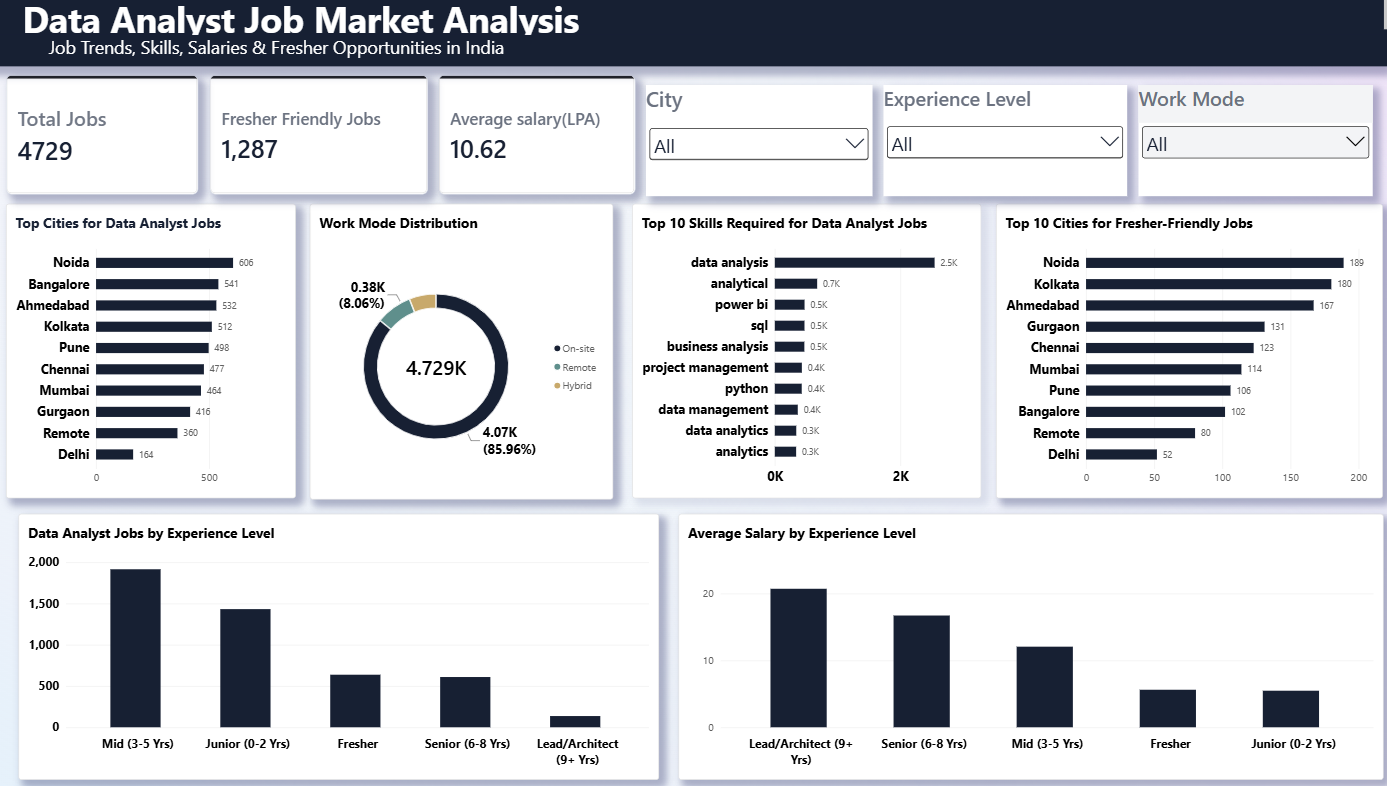

What the dashboard file says about the page in this screenshot:
{"tool":"powerbi","page":{"name":"Page 1","canvas":[1920,1080],"ordinal":0},"visuals":[{"type":"cardVisual","fields":{"Data":["Avg(Data_Analyst_Final.salary_for_analysis)"]},"box":[618.3,108.3,266.7,161.7],"z":0},{"type":"donutChart","title":"Work Mode Distribution","fields":{"Category":["Data_Analyst_Final.work_mode"],"Y":["CountNonNull(Data_Analyst_Final.job_id)"]},"box":[445,281.7,410,400],"z":1000},{"type":"clusteredBarChart","title":"Top Cities for Data Analyst Jobs","fields":{"Category":["Data_Analyst_Final.primary_city"],"Y":["CountNonNull(Data_Analyst_Final.job_id)"]},"box":[33.3,281.7,391.7,398.3],"z":2000},{"type":"clusteredColumnChart","title":"Data Analyst Jobs by Experience Level","fields":{"Category":["Data_Analyst_Final.experience_tier"],"Y":["CountNonNull(Data_Analyst_Final.job_id)"]},"box":[50,702,866,360],"z":3000},{"type":"clusteredBarChart","title":"Top 10 Skills Required for Data Analyst Jobs","fields":{"Category":["Skills.skills_required"],"Y":["CountNonNull(Skills.job_id)"]},"box":[880,281.7,471.7,398.3],"z":4000},{"type":"cardVisual","fields":{"Data":["Data_Analyst_Final.Fresher Friendly Jobs Display"]},"box":[310,108.3,295,161.7],"z":5000},{"type":"clusteredColumnChart","title":"Average Salary by Experience Level","fields":{"Category":["Data_Analyst_Final.experience_tier"],"Y":["Avg(Data_Analyst_Final.salary_for_analysis)"]},"box":[943.3,701.7,953.3,360],"z":6000},{"type":"cardVisual","title":"Total Jobs","fields":{"Data":["CountNonNull(Data_Analyst_Final.job_id)"]},"box":[33.3,108.3,260,161.7],"z":7000},{"type":"clusteredBarChart","title":"Top 10 Cities for Fresher-Friendly Jobs","fields":{"Category":["Data_Analyst_Final.primary_city"],"Y":["CountNonNull(Data_Analyst_Final.job_id)"]},"box":[1373.3,281.7,523.3,398.3],"z":8000},{"type":"textbox","box":[14,0,1892,54],"z":9000},{"type":"textbox","box":[79,890,357,190],"z":10000},{"type":"textbox","box":[495.7,944.3,280,135.7],"z":11000},{"type":"textbox","box":[880,930,532.9,150],"z":12000},{"type":"textbox","box":[14,54,1892,42],"z":13000},{"type":"slicer","title":"City","fields":{"Values":["Data_Analyst_Final.primary_city"]},"box":[899.5,121.4,306,150],"z":14000},{"type":"slicer","title":"Experience Level","fields":{"Values":["Data_Analyst_Final.experience_tier"]},"box":[1220.6,121.4,329.3,150.3],"z":15000},{"type":"slicer","title":"Work Mode","fields":{"Values":["Data_Analyst_Final.work_mode"]},"box":[1566.4,121.4,316.7,150.2],"z":16000}]}

Visuals, with their boxes in screenshot pixels (x1, y1, x2, y2), scaled from the page's 1920x1080 canvas onto the 1387x786 screenshot:
cardVisual - Avg(Data_Analyst_Final.salary_for_analysis): select_region(447, 79, 639, 196)
"Work Mode Distribution" donutChart: select_region(321, 205, 618, 496)
"Top Cities for Data Analyst Jobs" clusteredBarChart: select_region(24, 205, 307, 495)
"Data Analyst Jobs by Experience Level" clusteredColumnChart: select_region(36, 511, 662, 773)
"Top 10 Skills Required for Data Analyst Jobs" clusteredBarChart: select_region(636, 205, 976, 495)
cardVisual - Data_Analyst_Final.Fresher Friendly Jobs Display: select_region(224, 79, 437, 196)
"Average Salary by Experience Level" clusteredColumnChart: select_region(681, 511, 1370, 773)
"Total Jobs" cardVisual: select_region(24, 79, 212, 196)
"Top 10 Cities for Fresher-Friendly Jobs" clusteredBarChart: select_region(992, 205, 1370, 495)
textbox: select_region(10, 0, 1377, 39)
textbox: select_region(57, 648, 315, 785)
textbox: select_region(358, 687, 560, 785)
textbox: select_region(636, 677, 1021, 785)
textbox: select_region(10, 39, 1377, 70)
"City" slicer: select_region(650, 88, 871, 198)
"Experience Level" slicer: select_region(882, 88, 1120, 198)
"Work Mode" slicer: select_region(1132, 88, 1360, 198)
